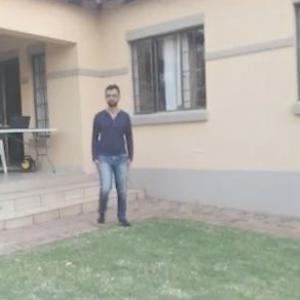follow: (90, 77, 136, 238)
